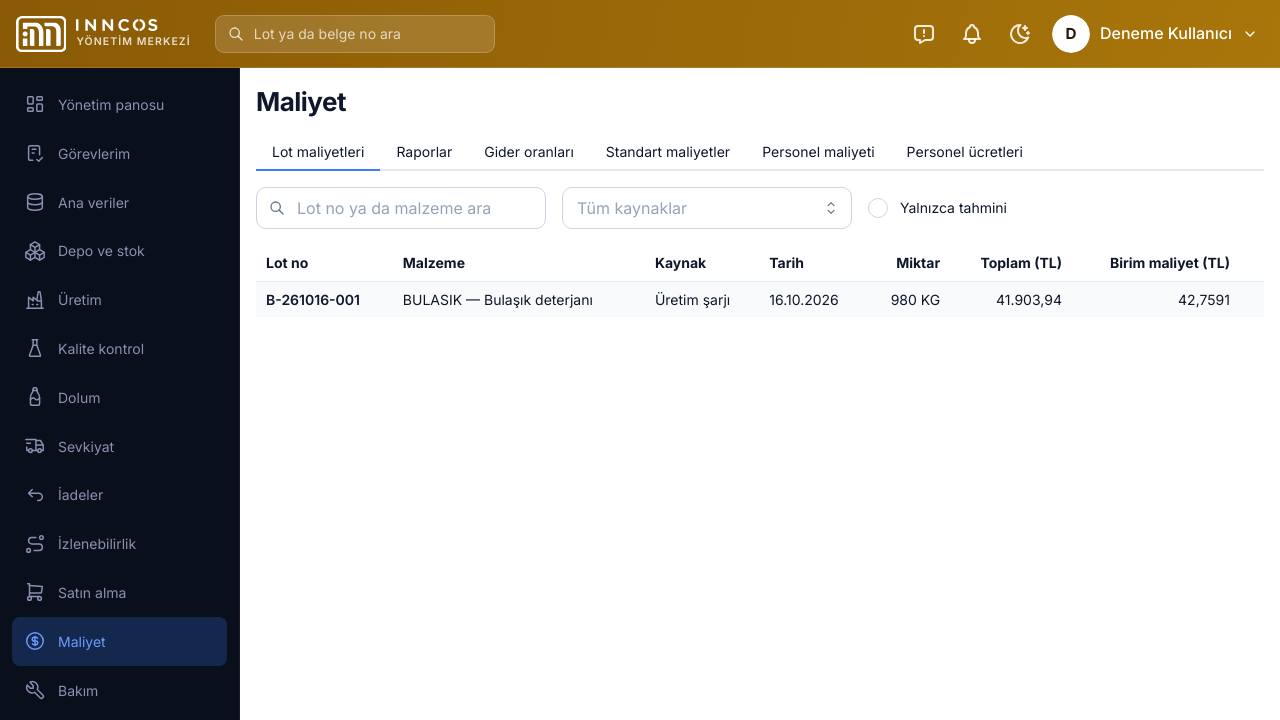
Test: maliyet › yönetim lot maliyetlerini görür ve kalem kalem dökümü açar
expect the text "41.903,94" is shown: met, box [950,281,1072,318]
expect the text "42,7591" is shown: met, box [1072,281,1240,318]
Click the row that starts with "B-261016-001".
click(760, 299)  # box [256,281,1264,318]
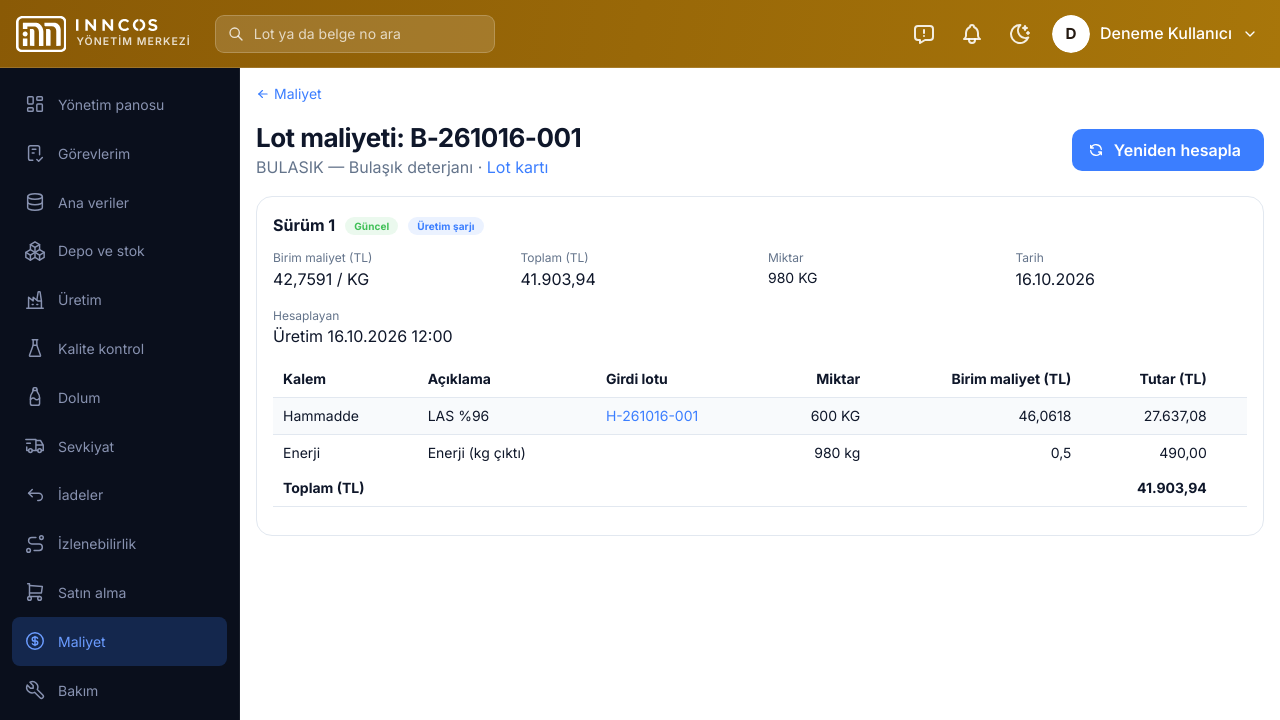
expect the text "27.637,08" is shown: met, box [1081,397,1217,434]
expect the text "Enerji" is shown: met, box [273,434,418,470]
